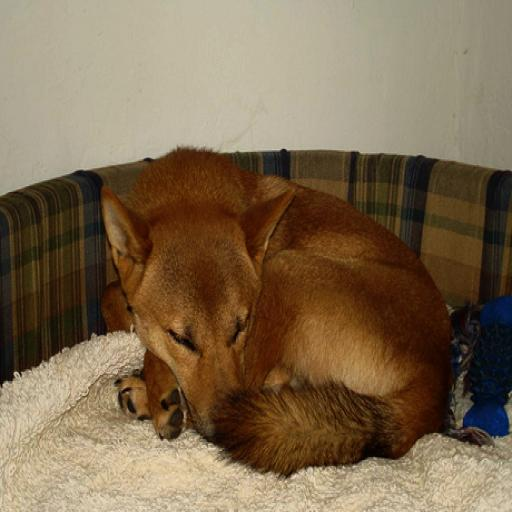dog_face: (90, 163, 265, 432)
